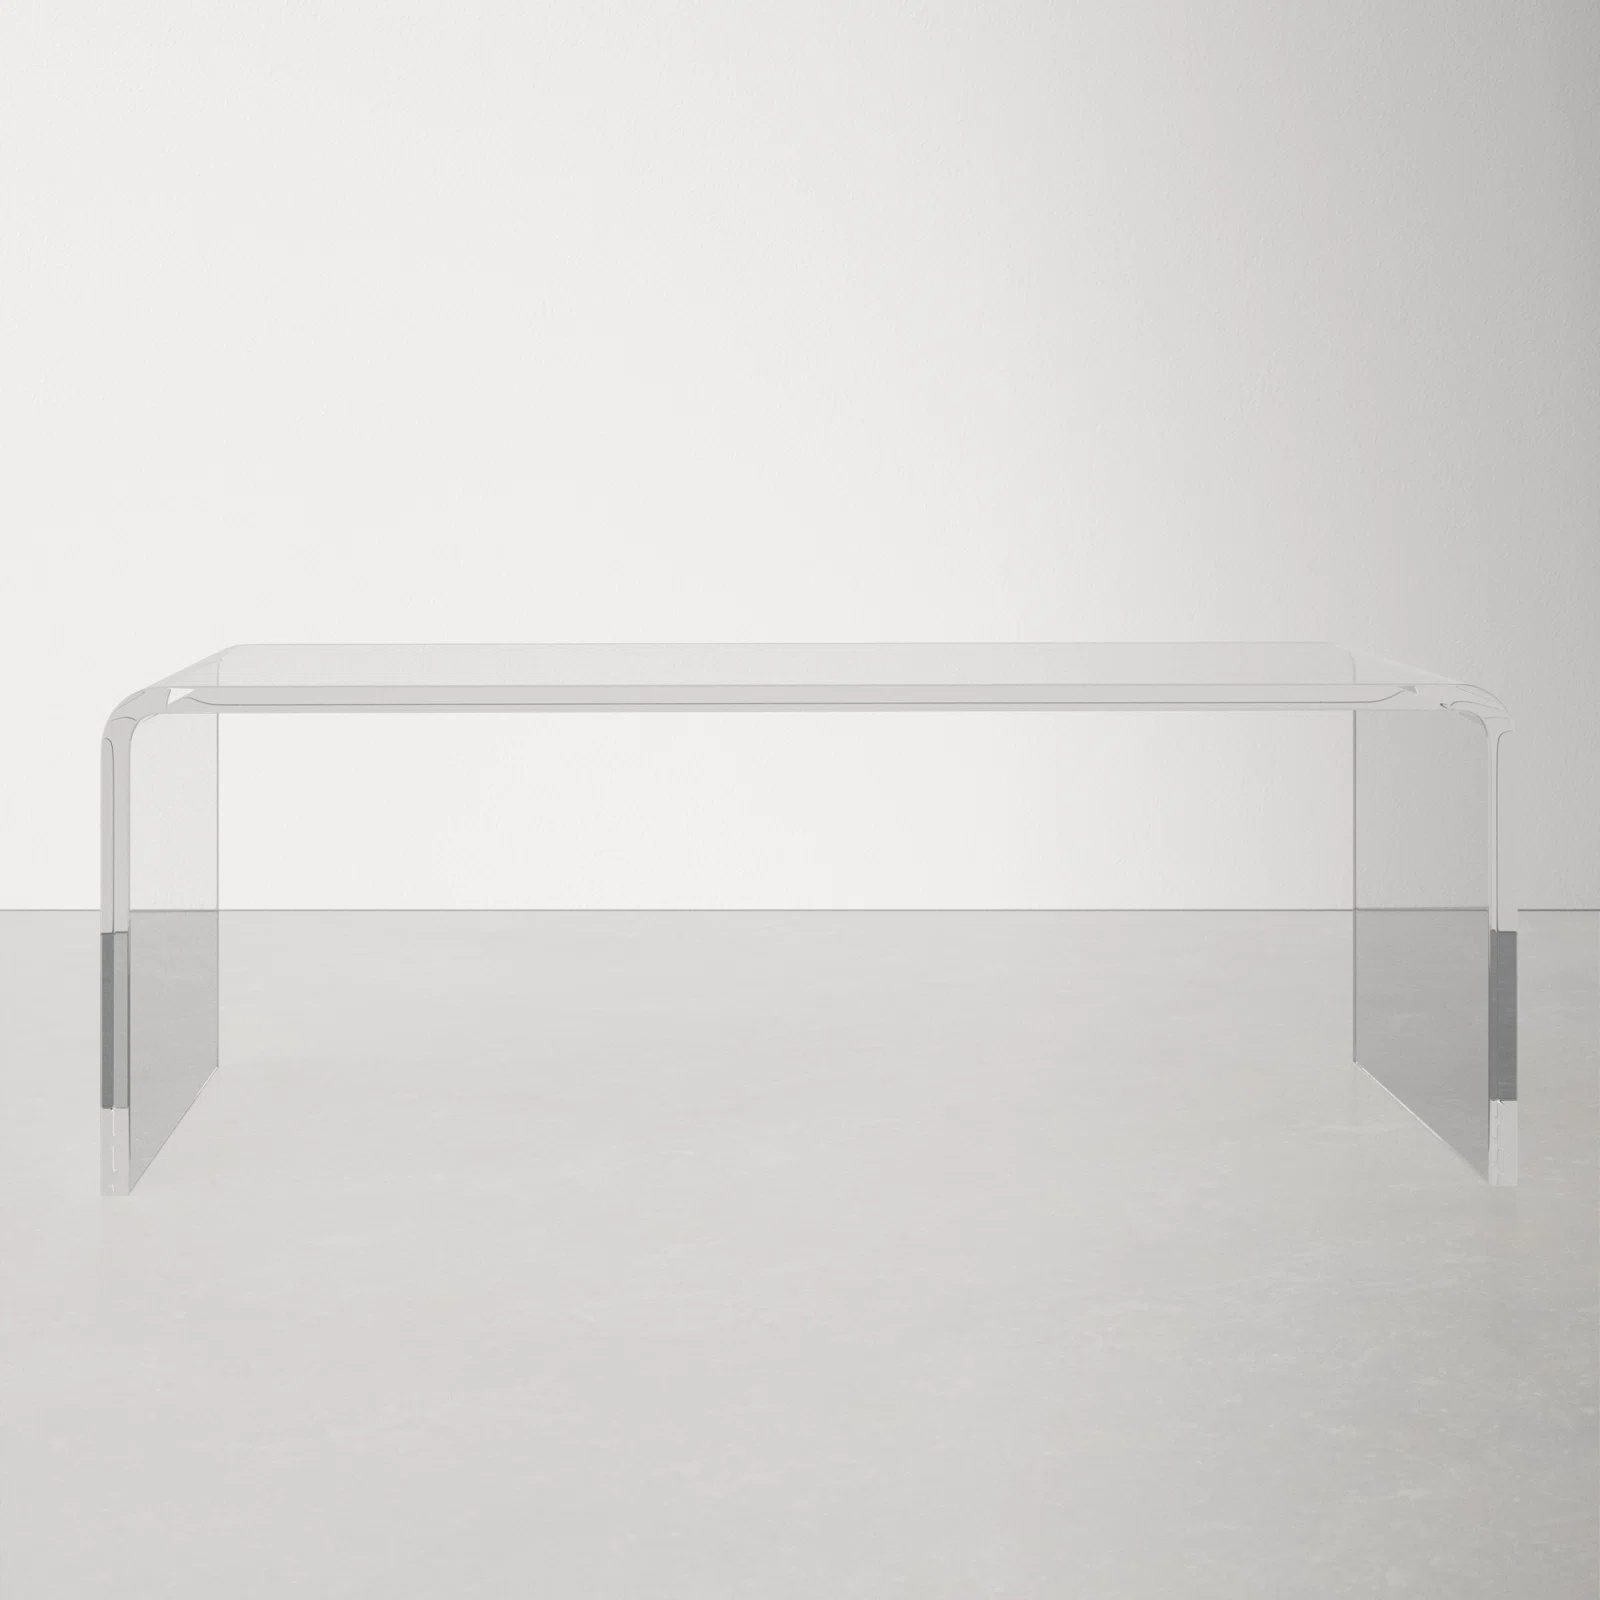obstacle: (101, 643, 1515, 1193)
